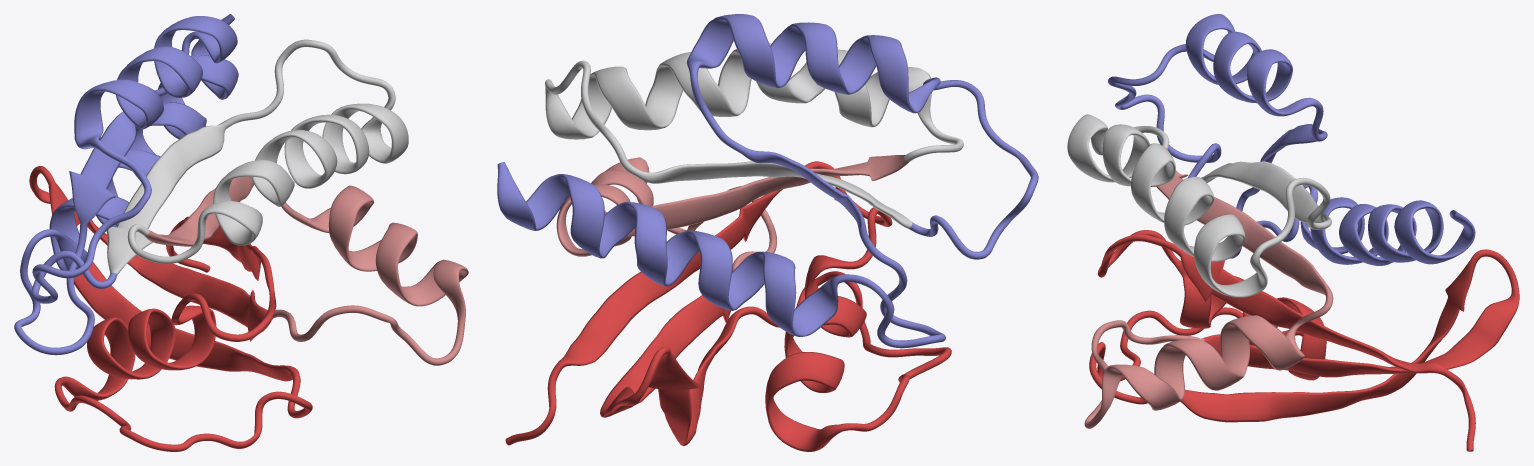
The picture shows the model from 3 angles, left to right: view 1: azimuth 30°, elevation 25°; view 2: azimuth 150°, elevation 25°; view 3: azimuth 270°, elevation 25°; orthographic projection. The views are drawn at different scales.
Parts seen in each view (by area): view 1: vmd_mol0_rep0.002; view 2: vmd_mol0_rep0.002; view 3: vmd_mol0_rep0.002.
Part boxes in pixels (x1,y1,x2,y2): vmd_mol0_rep0.002: (14,14,468,451); vmd_mol0_rep0.002: (497,14,1038,451); vmd_mol0_rep0.002: (1067,14,1519,451).
Bounding box in the file's own units: 175 × 148 × 168.
